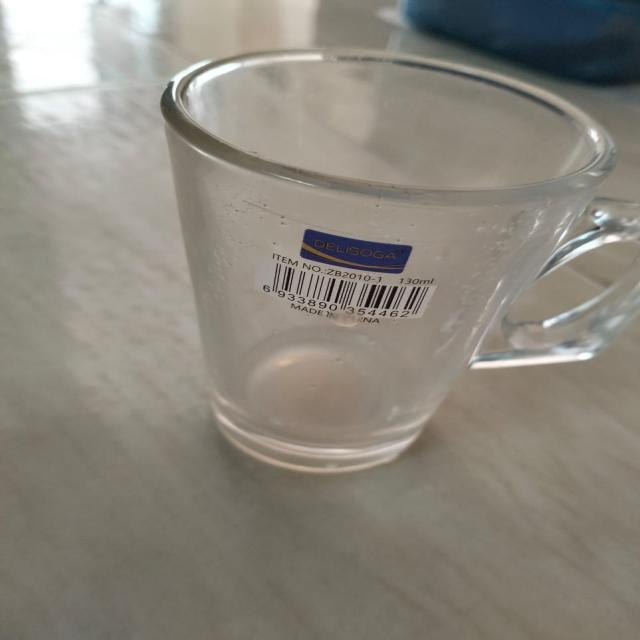glass-VX4N: (160, 48, 640, 484)
